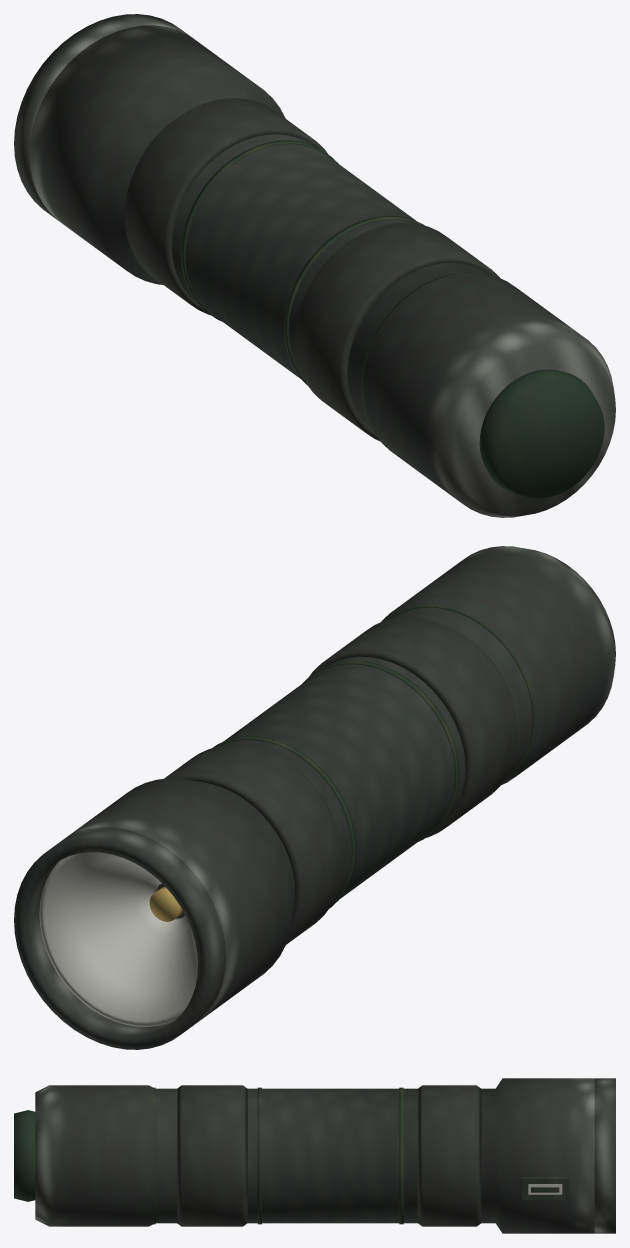
Rendered from flashlight.glb.
3 renders of one model, top to bottom at view 1: azimuth 30°, elevation 25°; view 2: azimuth 150°, elevation 25°; view 3: azimuth 270°, elevation 25°, orthographic. The views are drawn at different scales.
Visible parts, largest first — view 1: GEO-flashlight-Tool_Anodized, GEO-flashlight-Tool_Rubber; view 2: GEO-flashlight-Tool_Anodized, GEO-flashlight-Tool_Reflector, GEO-flashlight-Tool_Rubber, GEO-flashlight-Tool_Brass; view 3: GEO-flashlight-Tool_Anodized, GEO-flashlight-Tool_Rubber, GEO-flashlight-Tool_Reflector.
Part boxes in pixels (bbox=[...]): GEO-flashlight-Tool_Anodized: bbox=[14, 14, 615, 517]; GEO-flashlight-Tool_Rubber: bbox=[181, 140, 604, 498]; GEO-flashlight-Tool_Anodized: bbox=[14, 546, 615, 1049]; GEO-flashlight-Tool_Reflector: bbox=[39, 852, 197, 1026]; GEO-flashlight-Tool_Rubber: bbox=[212, 605, 535, 908]; GEO-flashlight-Tool_Brass: bbox=[149, 887, 182, 921]; GEO-flashlight-Tool_Anodized: bbox=[35, 1078, 615, 1233]; GEO-flashlight-Tool_Rubber: bbox=[14, 1087, 569, 1224]; GEO-flashlight-Tool_Reflector: bbox=[528, 1184, 562, 1194].
Size of the model in its own units: 0.0224 by 0.022 by 0.085.
4 materials, 4 textured.
